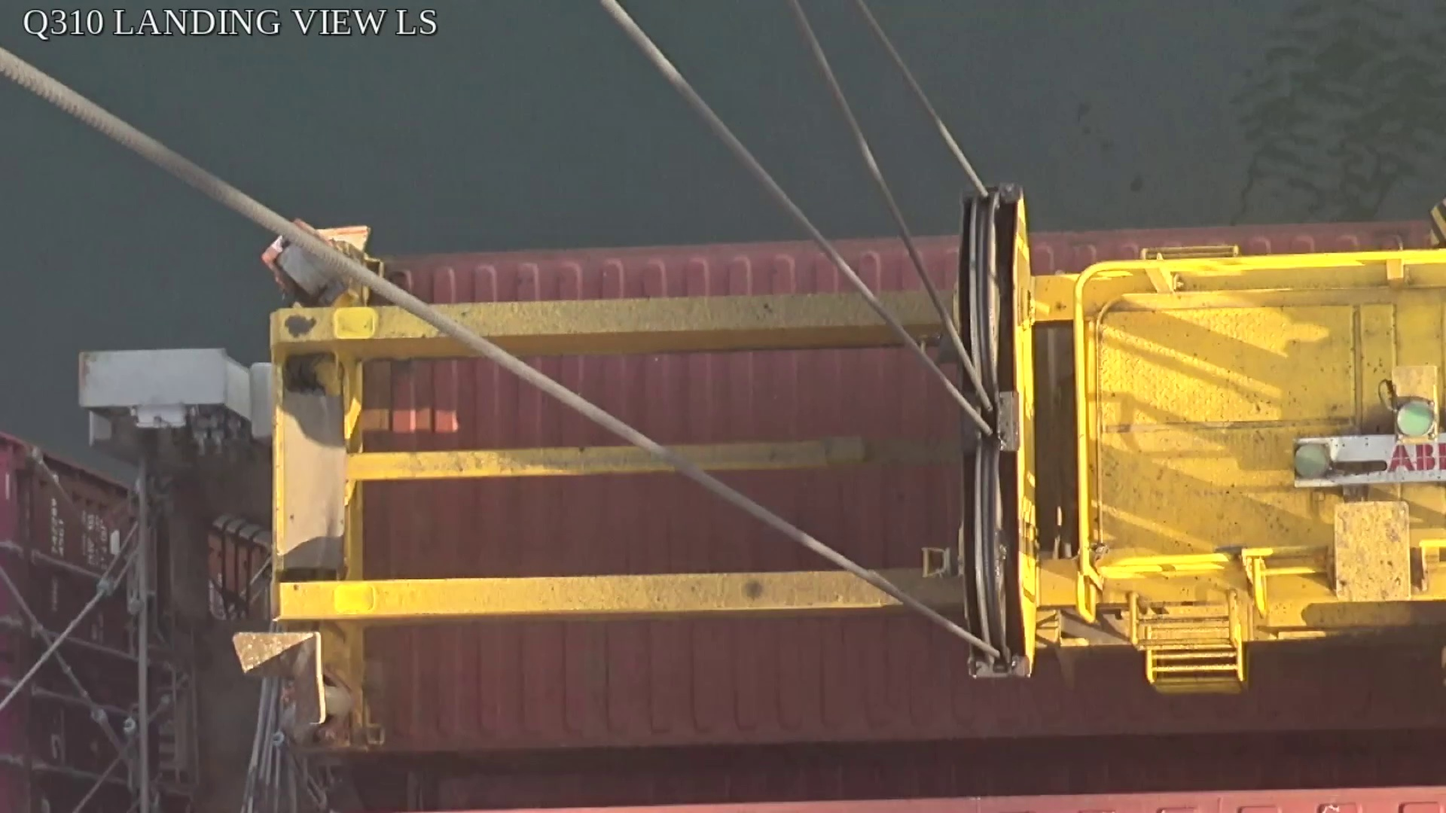left_gear: (959, 181, 1043, 678)
